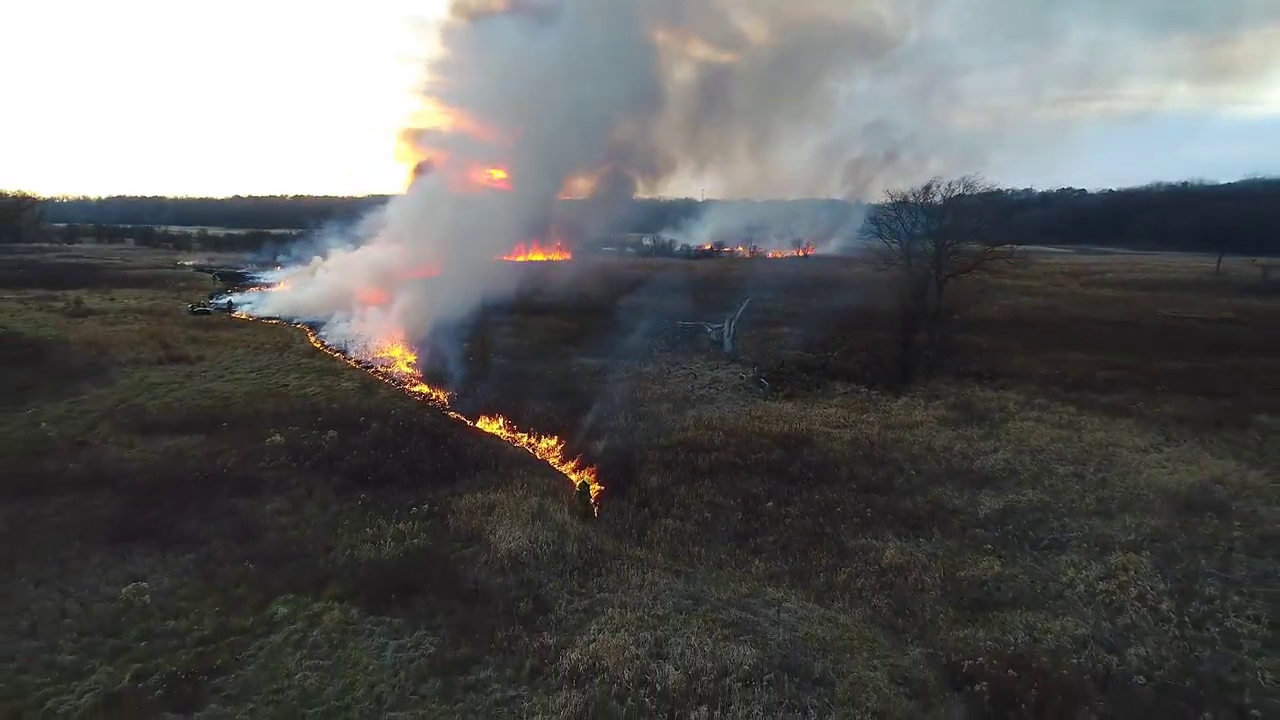forest_fire: (232, 311, 602, 512), (497, 239, 570, 261), (763, 239, 814, 258)
